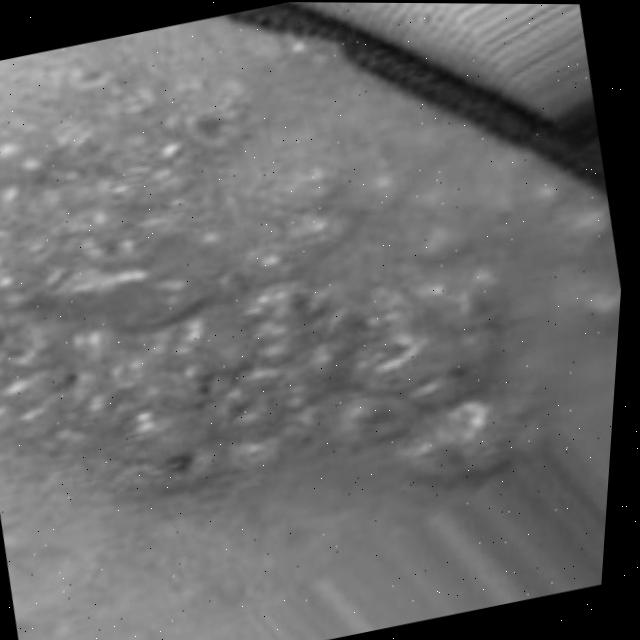Shingles: (0, 35, 546, 591)
